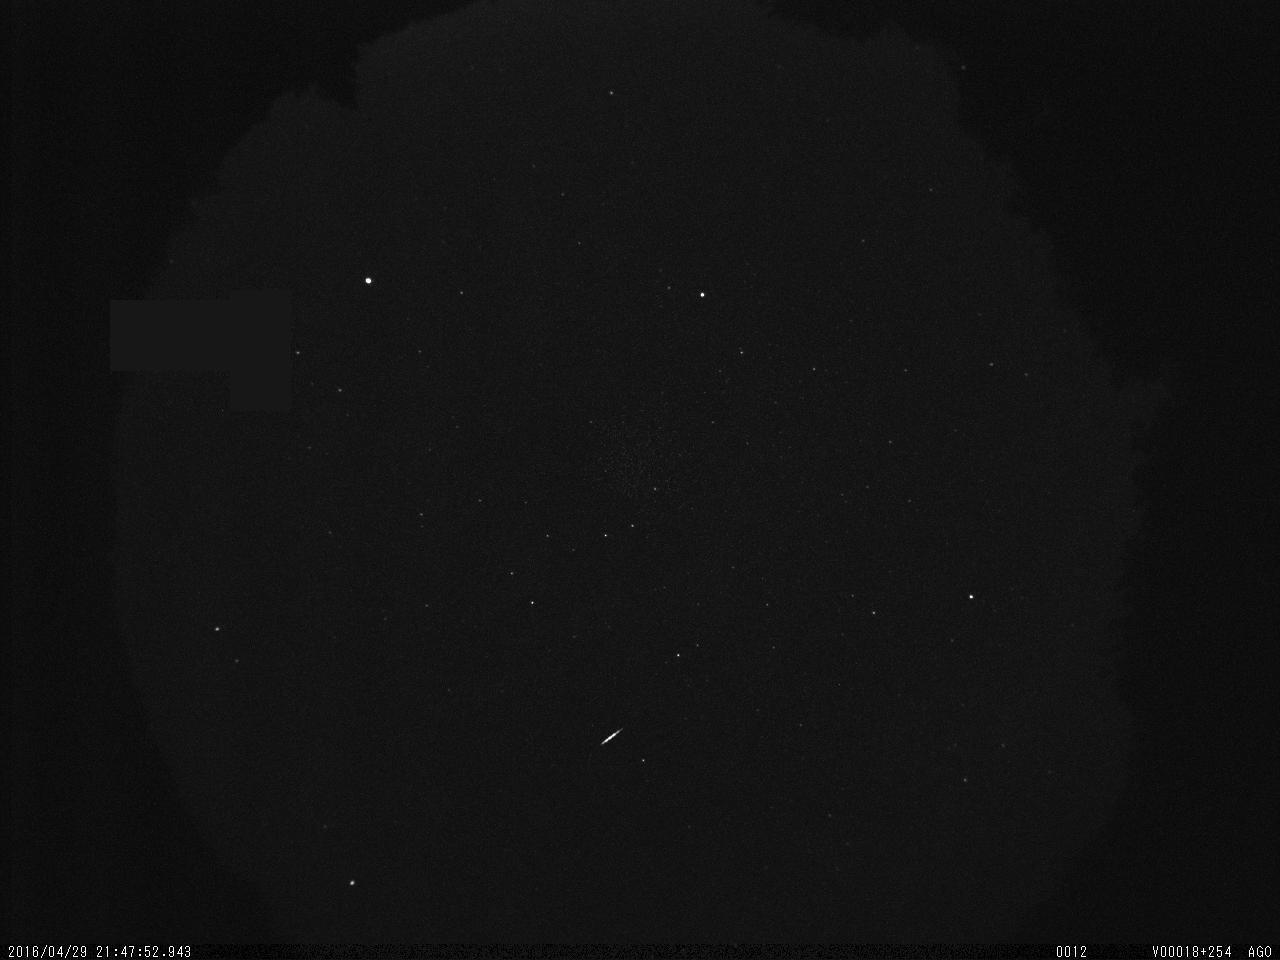meteor: (585, 724, 636, 757)
